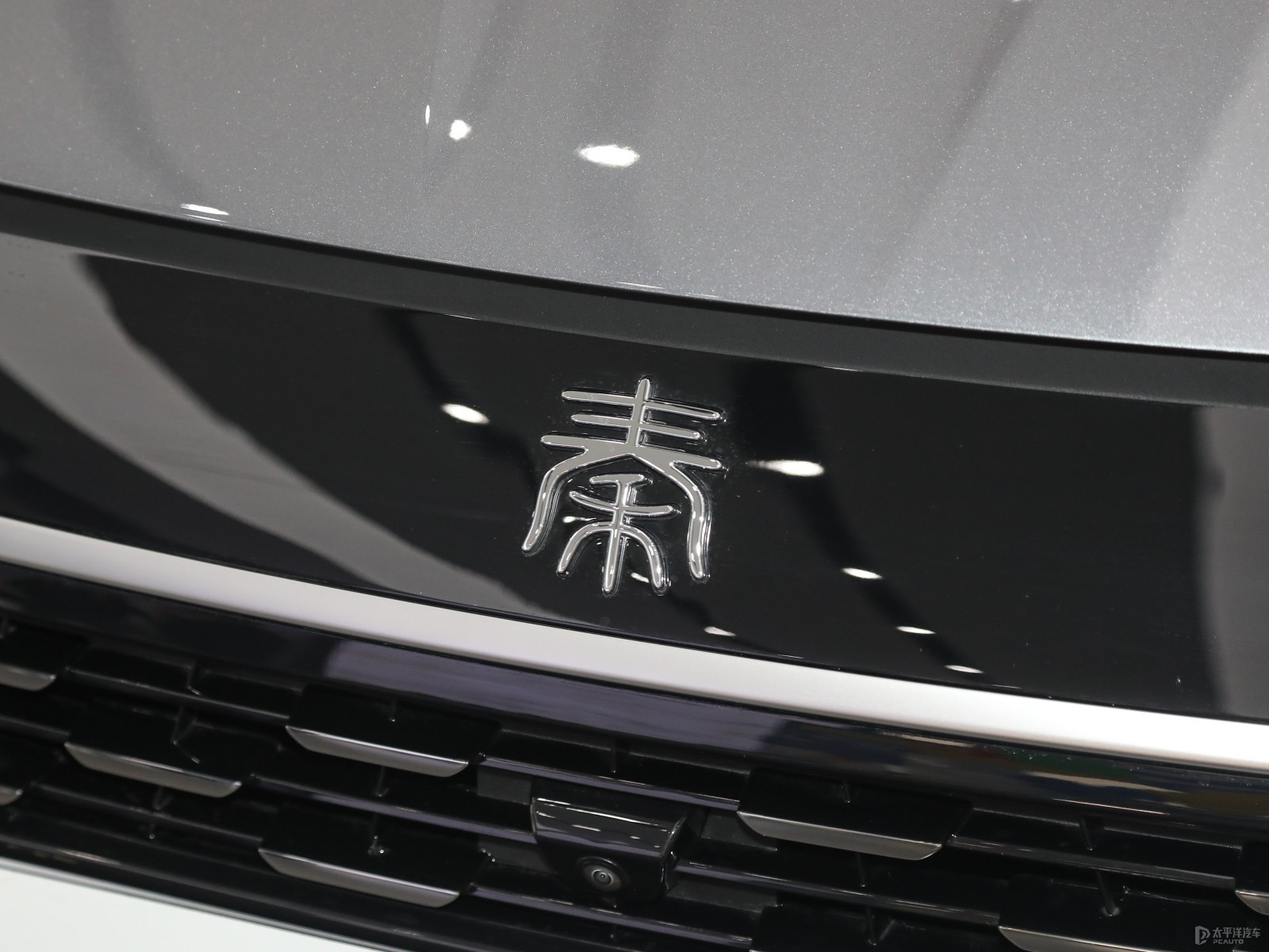BYD Qin: (522, 379, 726, 596)
